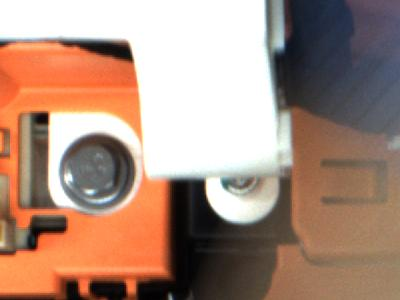nut_b: (57, 131, 136, 202)
